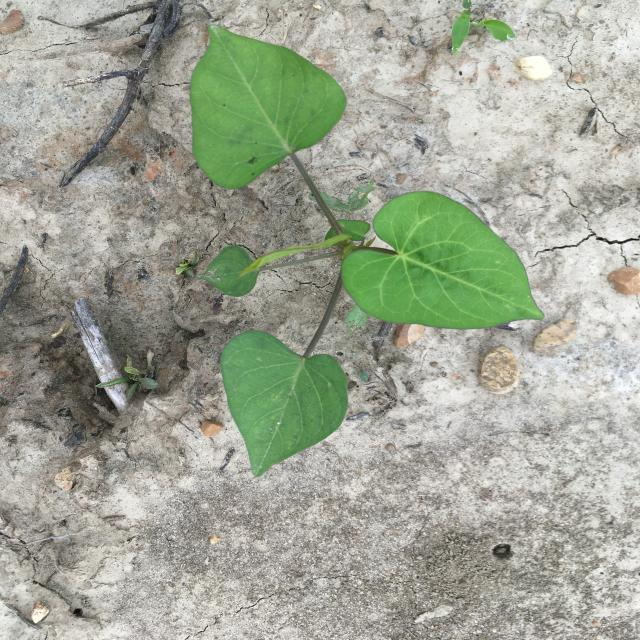MorningGlory: (190, 24, 545, 478)
